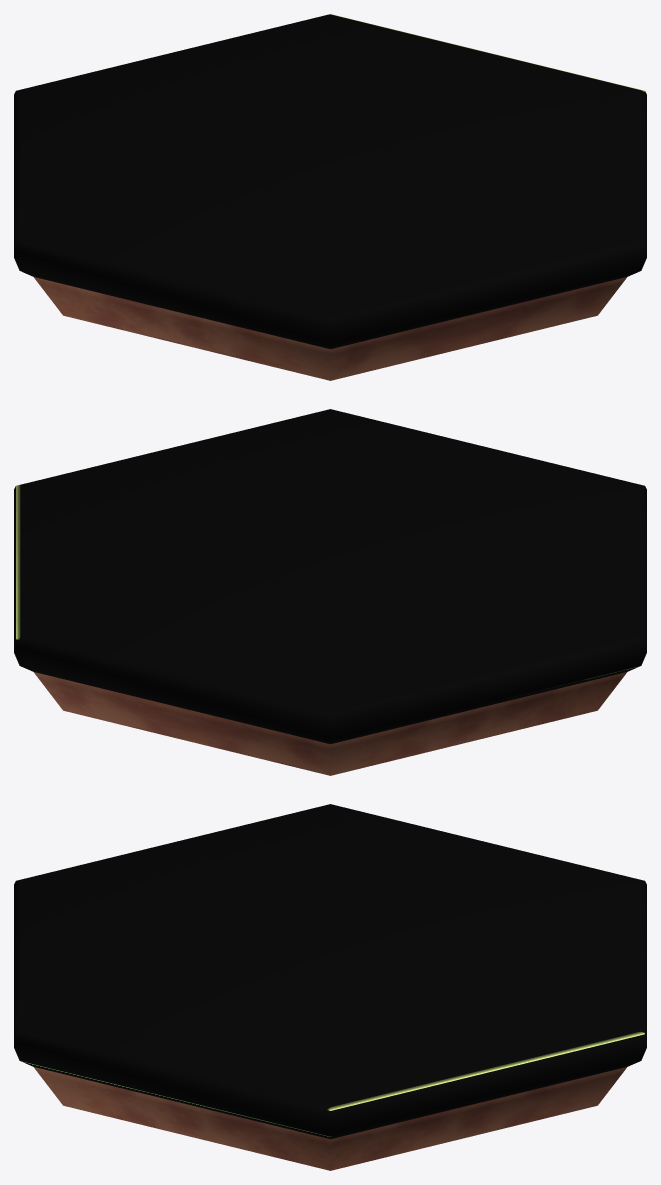
The model's file is PLATAFORMA_GRASS.fbx.
3 views of the same model, one above another, from view 1: azimuth 30°, elevation 25°; view 2: azimuth 150°, elevation 25°; view 3: azimuth 270°, elevation 25° (orthographic).
Parts seen in each view (by area): view 1: Cylinder.014; view 2: Cylinder.014; view 3: Cylinder.014.
Boxes of the visible parts, x1=… form: Cylinder.014: x1=14, y1=14, x2=646, y2=380; Cylinder.014: x1=14, y1=409, x2=646, y2=775; Cylinder.014: x1=14, y1=804, x2=646, y2=1170.
Size of the model in its own units: 200 by 25.58 by 173.
Materials: 1 (1 with a texture image).
